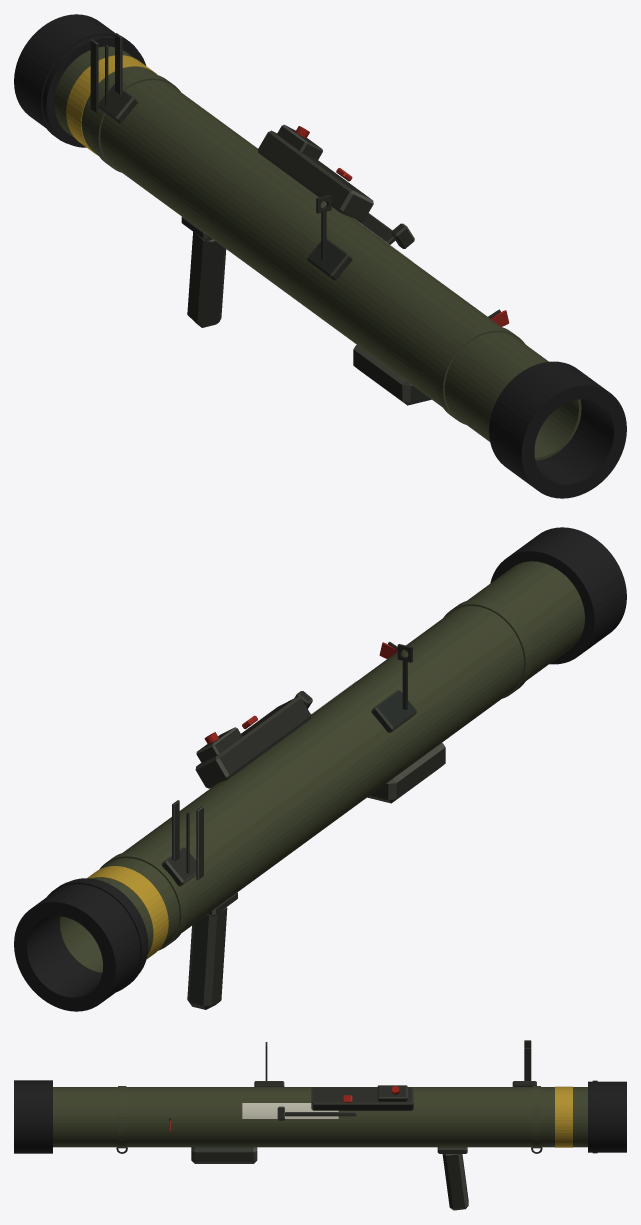
The model's file is launcher.glb.
3 views of the same model, one above another, from view 1: azimuth 30°, elevation 25°; view 2: azimuth 150°, elevation 25°; view 3: azimuth 270°, elevation 25° (orthographic). The views are drawn at different scales.
Visible parts, largest first — view 1: launcher_body, launcher_rubber, launcher_mech, launcher_mark; view 2: launcher_body, launcher_rubber, launcher_mech, launcher_mark; view 3: launcher_body, launcher_mech, launcher_rubber, launcher_mark.
Part boxes in pixels (bbox=[...]): launcher_body: bbox=[54, 46, 581, 460]; launcher_rubber: bbox=[14, 14, 626, 498]; launcher_mech: bbox=[90, 33, 500, 405]; launcher_mark: bbox=[66, 55, 411, 260]; launcher_body: bbox=[59, 561, 584, 973]; launcher_rubber: bbox=[14, 527, 626, 1011]; launcher_mech: bbox=[161, 641, 445, 1009]; launcher_mark: bbox=[87, 681, 356, 959]; launcher_body: bbox=[53, 1086, 587, 1148]; launcher_mech: bbox=[116, 1040, 542, 1210]; launcher_rubber: bbox=[14, 1080, 626, 1153]; launcher_mark: bbox=[242, 1086, 572, 1147].
Bounding box in the file's own units: 0.1373 × 0.2798 × 1.02.
